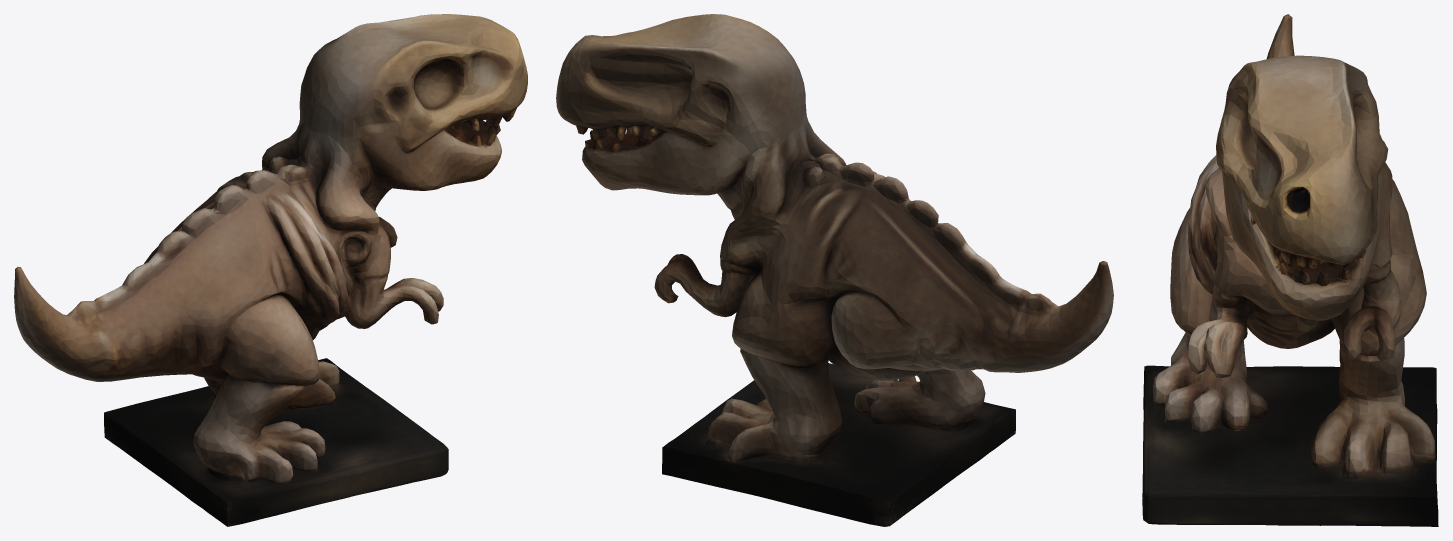
3 renders of one model, left to right at view 1: azimuth 30°, elevation 25°; view 2: azimuth 150°, elevation 25°; view 3: azimuth 270°, elevation 25°, orthographic. The views are drawn at different scales.
Parts seen in each view (by area): view 1: world; view 2: world; view 3: world.
Part boxes in pixels (box(x1,y1,x2,y2)): world: box(14, 14, 527, 526); world: box(556, 14, 1113, 526); world: box(1142, 14, 1438, 526).
Bounding box in the file's own units: 0.9953 × 0.7137 × 0.4138.
1 material, 1 textured.
